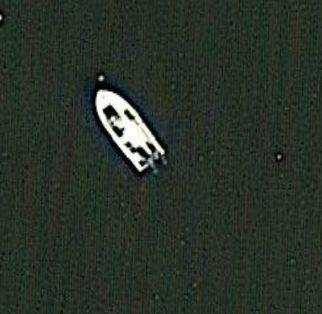Ships: (74, 78, 168, 198)
